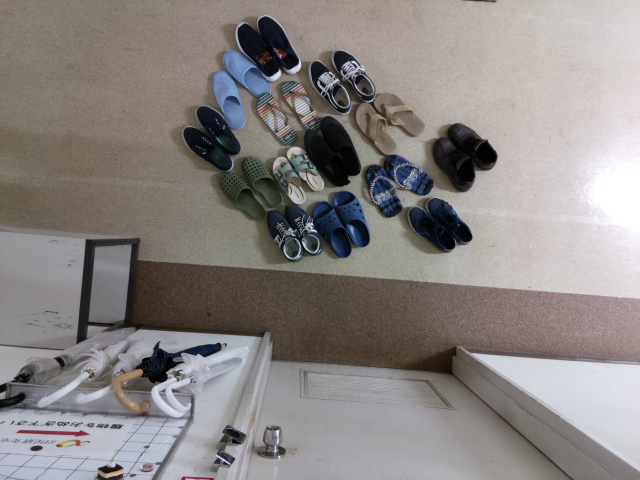Copy of Copy of Copy of Copy of Copy of Copy of Copy of Copy of Copy of Copy of: (400, 202, 457, 259), (303, 121, 350, 189), (423, 192, 479, 249), (445, 117, 500, 175), (319, 109, 361, 179), (381, 149, 437, 201), (430, 134, 477, 192), (353, 101, 400, 158), (371, 91, 426, 139), (263, 206, 304, 265), (282, 201, 323, 260), (312, 200, 353, 259), (330, 189, 371, 248), (362, 160, 403, 219), (219, 168, 264, 221), (239, 152, 278, 205), (271, 153, 307, 205), (289, 141, 324, 194)
Copy of Copy of Copy of Copy of Copy of Copy of Copy of Copy of Copy of shoe: (331, 48, 382, 105)
Copy of Copy of Copy of Copy of Copy of Copy of Copy of Copy of shoe: (303, 58, 353, 115)
Copy of Copy of Copy of Copy of Copy of Copy of Copy of shoe: (277, 77, 319, 132)
Copy of Copy of Copy of Copy of Copy of Copy of shoe: (254, 89, 299, 147)
Copy of Copy of Copy of Copy of Copy of shoe: (253, 14, 303, 79)
Copy of Copy of Copy of Copy of shoe: (233, 20, 283, 85)
Copy of Copy of Copy of Copy of umbrella: (1, 336, 92, 409)
Copy of Copy of Copy of shoe: (219, 48, 272, 102)
Copy of Copy of Copy of umbrella: (38, 338, 131, 411)
Copy of Copy of shoe: (210, 67, 245, 132)
Copy of Copy of umbrella: (77, 342, 165, 411)
Copy of shoe: (192, 101, 241, 157)
Copy of umbrella: (108, 348, 193, 415)
shoe: (178, 122, 235, 174)
umbrella: (155, 349, 240, 417)
